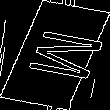M_E: (8, 26, 102, 84)
